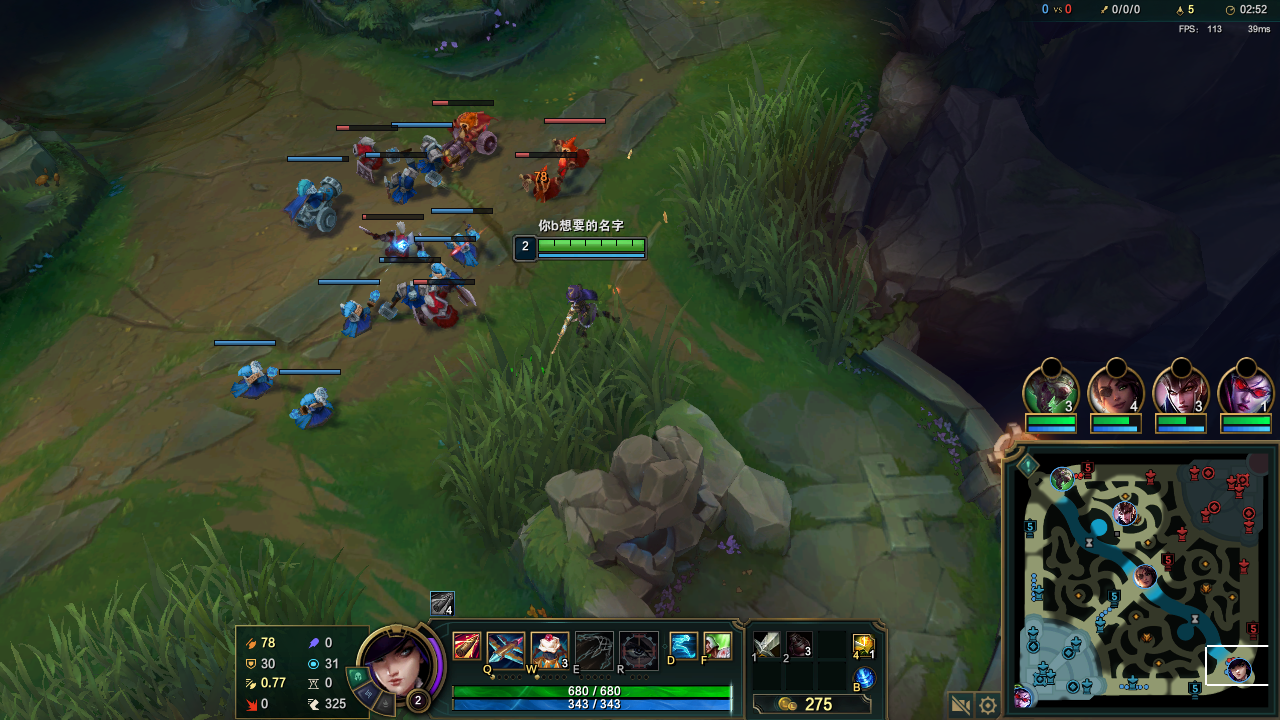DFXB: (446, 109, 497, 165), (360, 221, 423, 262), (420, 288, 473, 332), (348, 137, 382, 187), (522, 167, 563, 201), (549, 140, 586, 170)
WFXB: (282, 173, 343, 237), (340, 286, 379, 335), (378, 279, 421, 323), (289, 387, 334, 424), (416, 135, 449, 185), (234, 359, 276, 397), (445, 220, 480, 265), (388, 171, 424, 202), (427, 257, 461, 287)
Yita: (1187, 678, 1202, 699)
